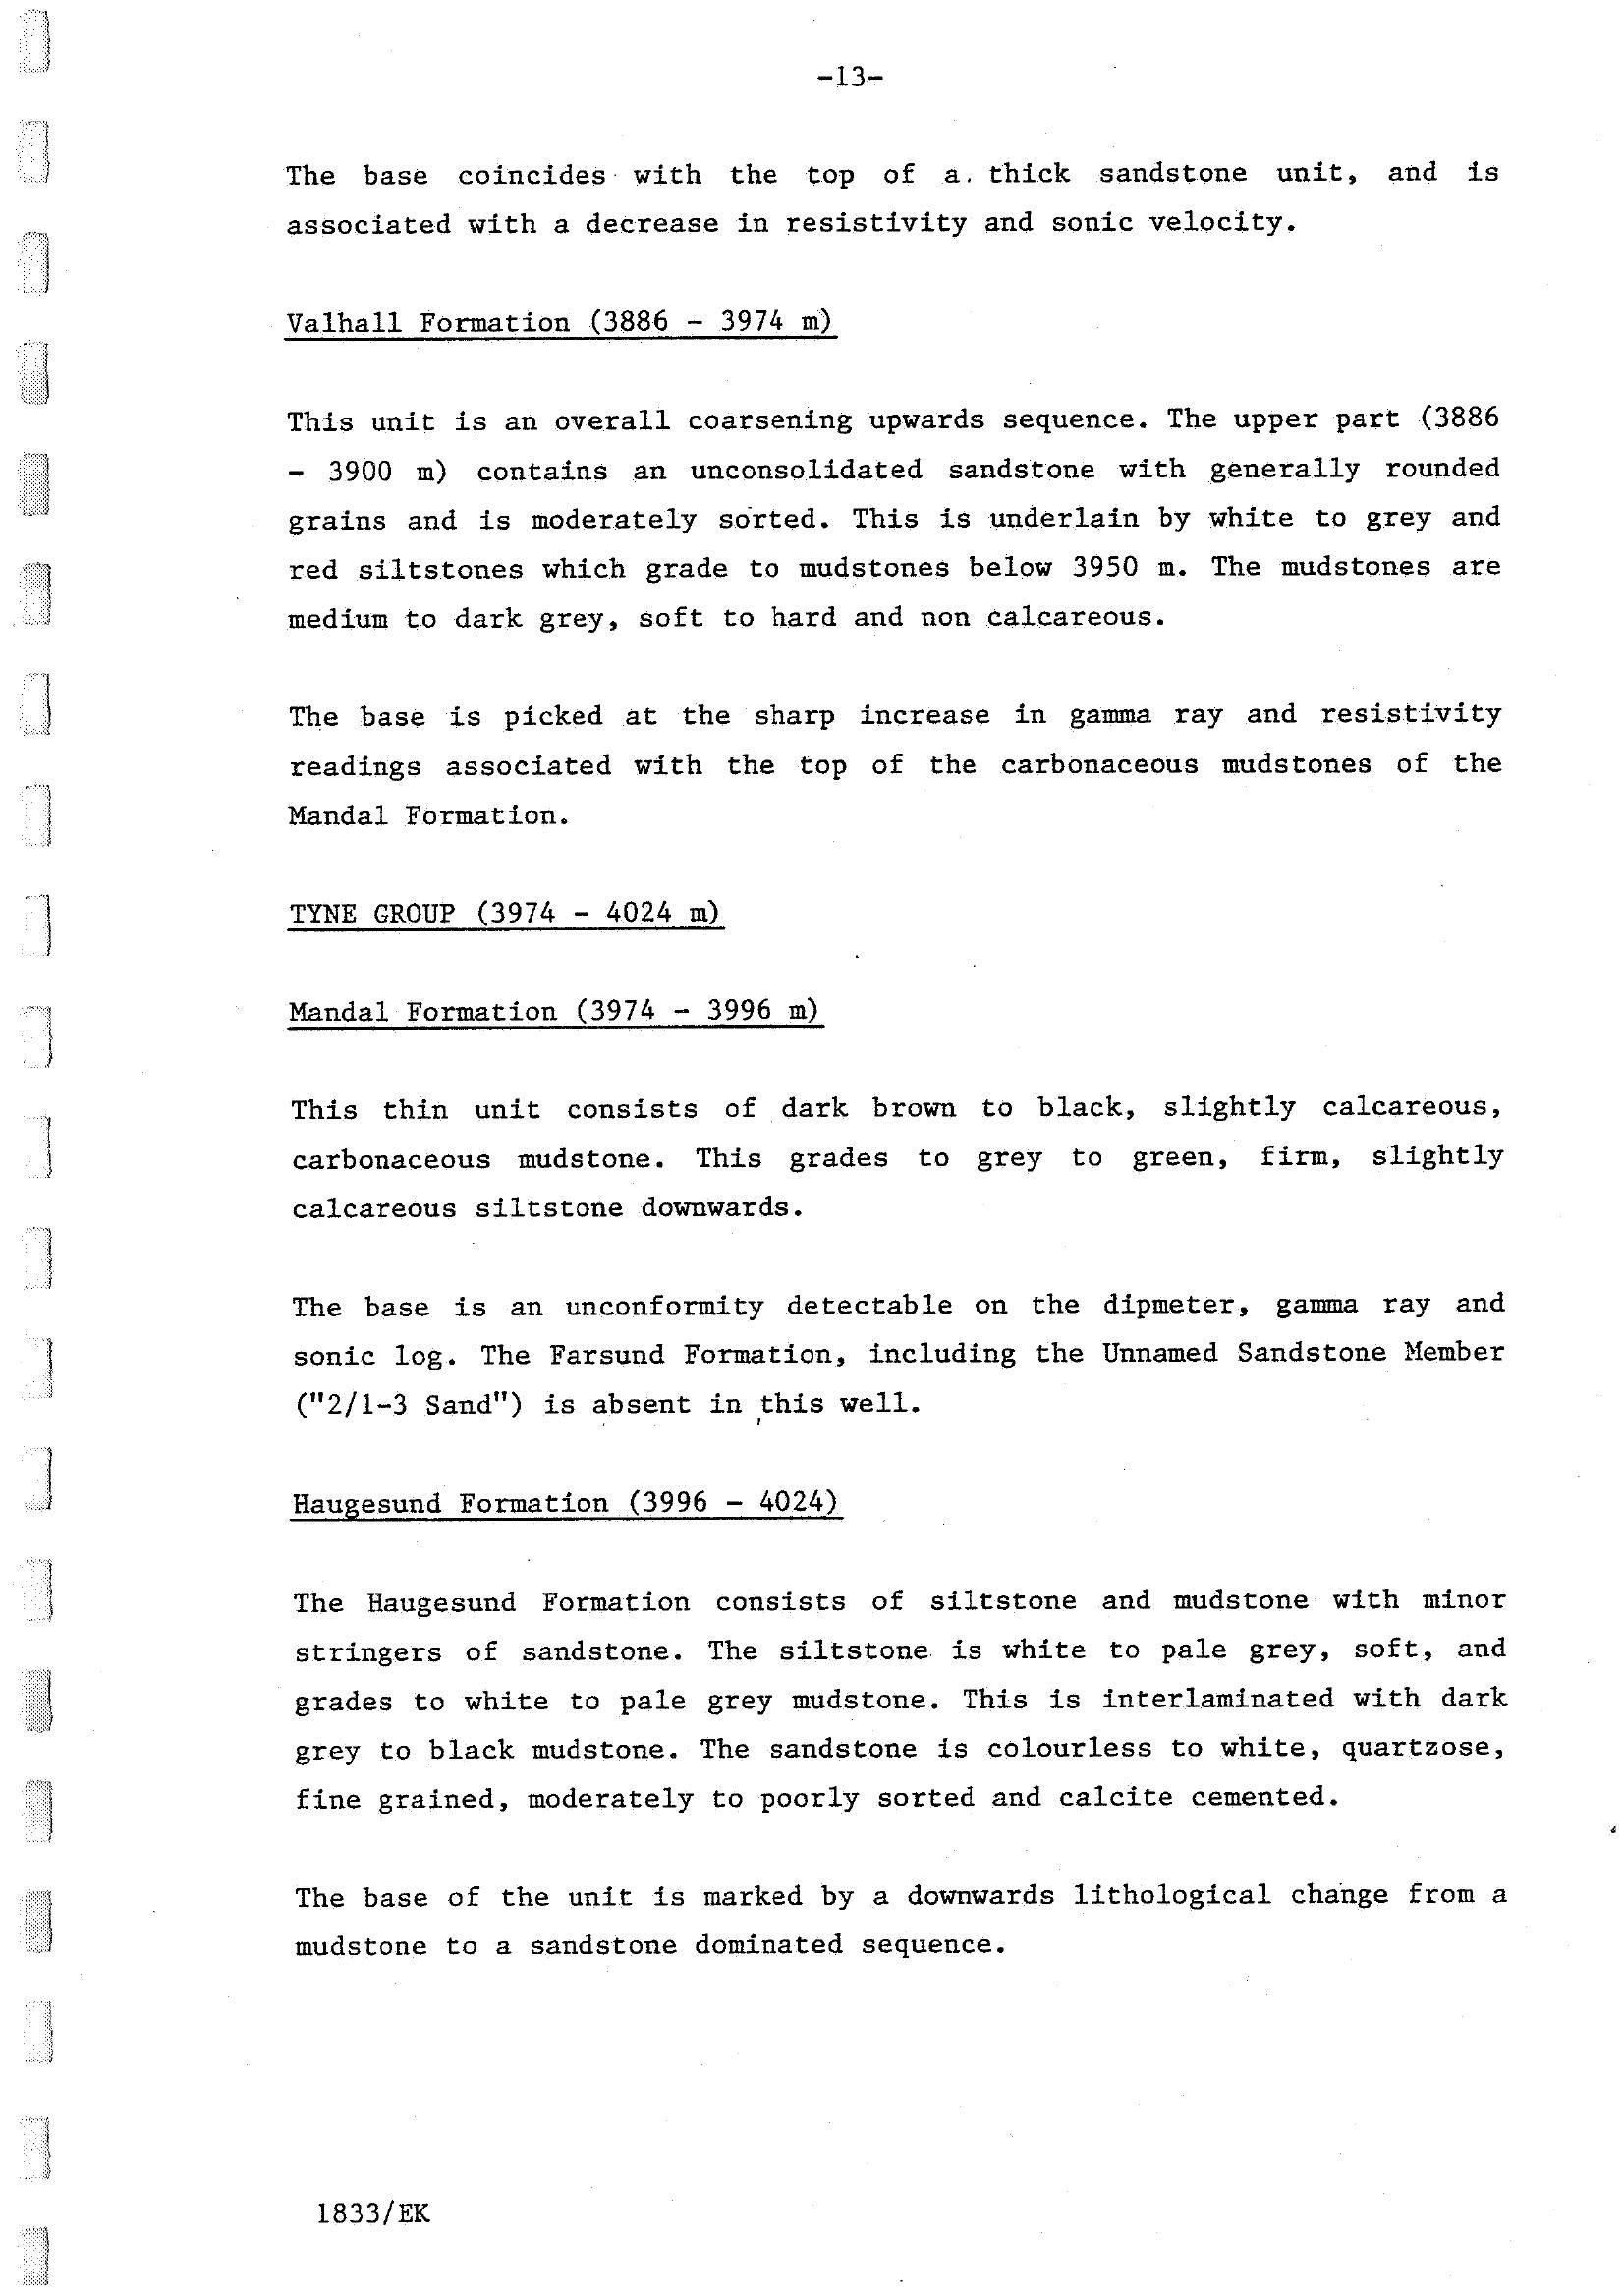text: (250, 135, 1547, 2001)
